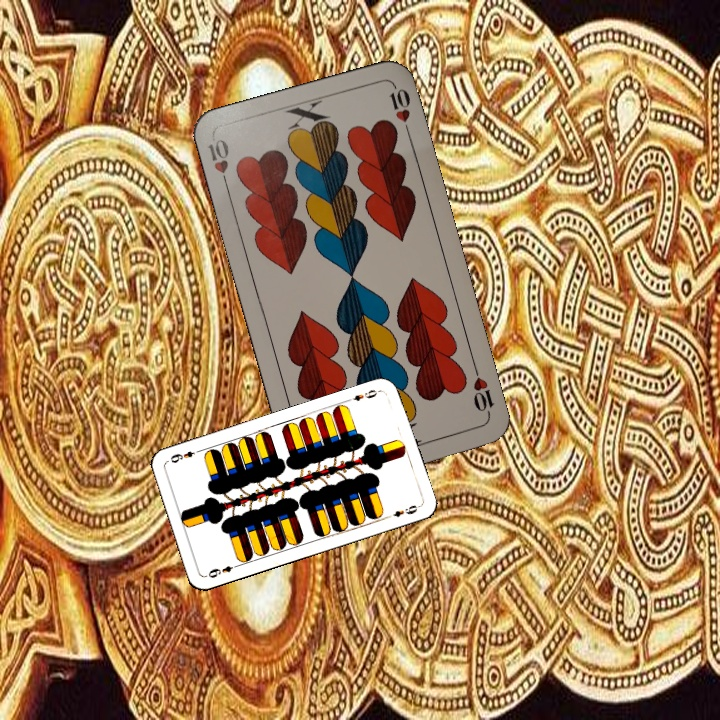E9: (204, 560, 242, 580), (344, 386, 383, 404)
H10: (203, 135, 232, 192), (469, 362, 497, 420)
